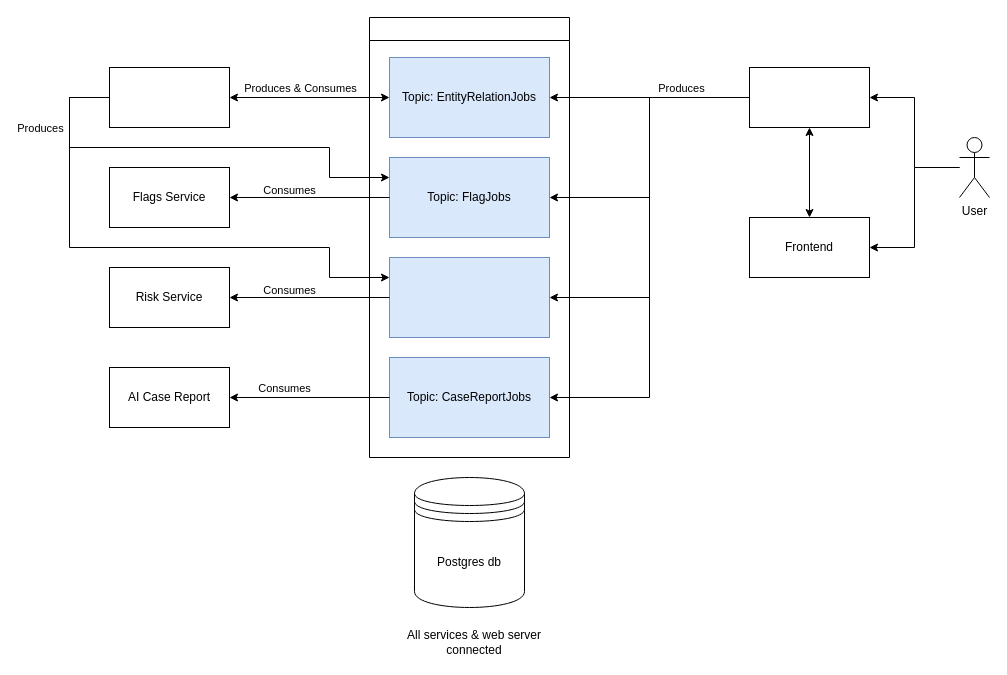
The diagram is 1007 pixels wide and 675 high, and some of its shapes have lost their labels. The shapes that lost their labels are listed below. From the top down, each one's box as (x1, y1, x2, y2) in pixels, then its label:
(108, 66, 230, 128): Entity Relation Service
(748, 66, 870, 128): Web Server API
(368, 16, 570, 458): Pulsar
(388, 256, 550, 338): Topic: RiskJobs
